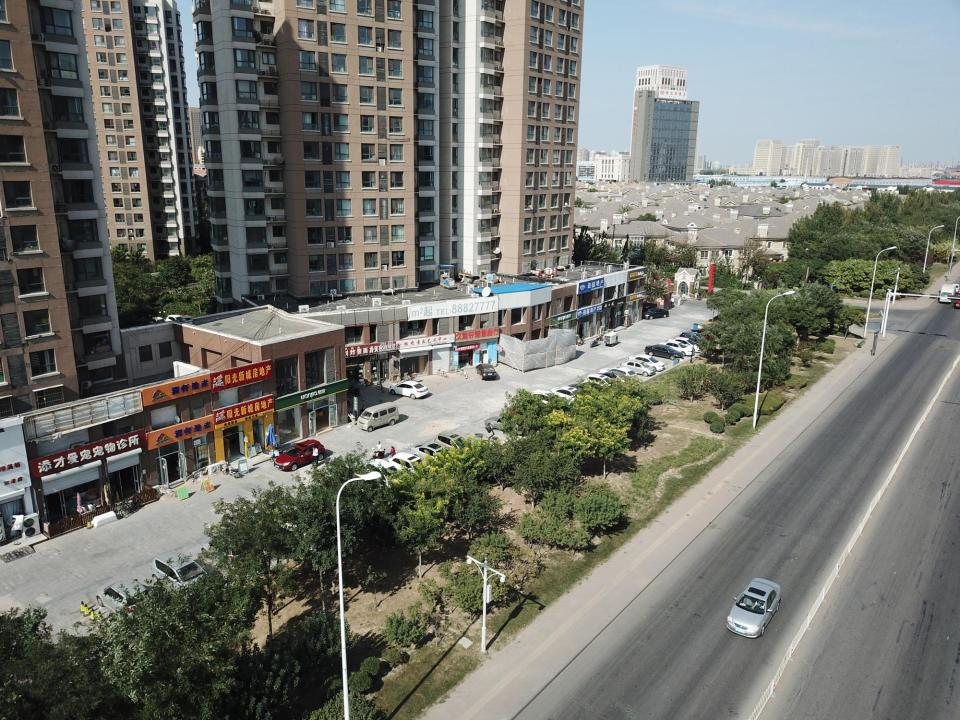car: (151, 550, 221, 601), (726, 577, 782, 638), (96, 578, 148, 623), (362, 458, 412, 496), (201, 534, 247, 572), (273, 439, 326, 471), (388, 452, 436, 480), (409, 442, 458, 468), (434, 431, 477, 457), (529, 389, 573, 411), (485, 415, 531, 435), (550, 387, 594, 406), (388, 381, 428, 399), (592, 371, 632, 388), (628, 354, 665, 372), (644, 344, 684, 360), (620, 359, 655, 377), (584, 374, 621, 391), (598, 366, 637, 382), (567, 382, 605, 398), (658, 340, 695, 356), (668, 337, 703, 353), (678, 331, 708, 345), (688, 328, 719, 339), (641, 308, 669, 320), (476, 364, 496, 380), (166, 314, 189, 326), (149, 317, 169, 330), (632, 302, 650, 312), (950, 283, 959, 293)
truck: (938, 284, 956, 304)
van: (357, 402, 399, 432)
